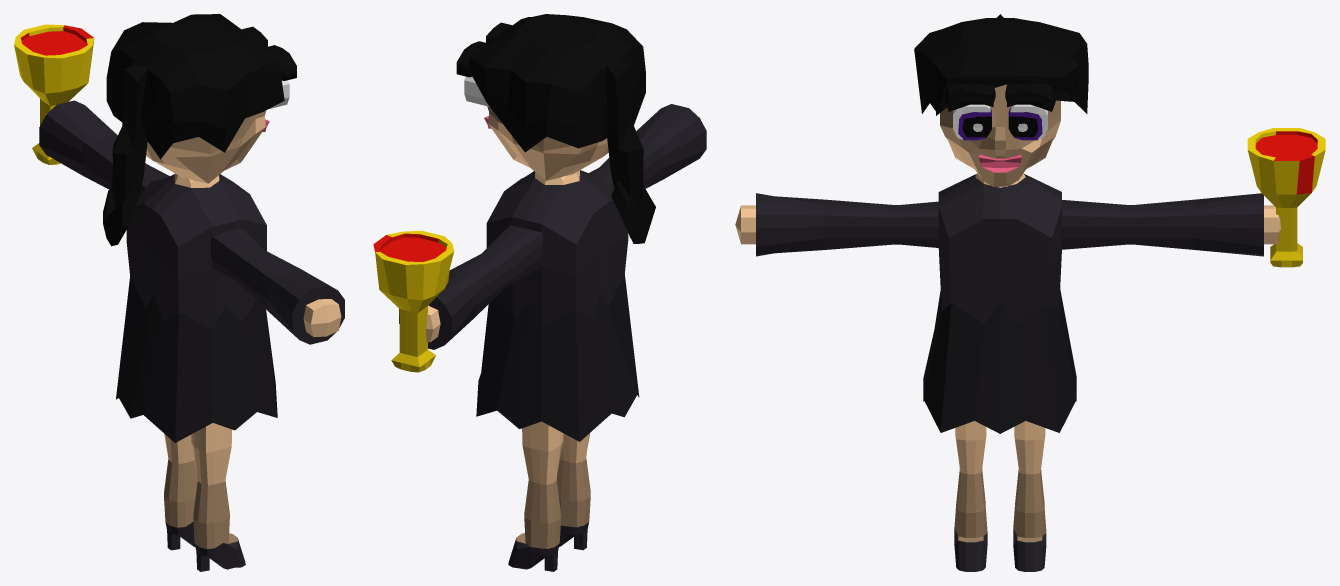
Rendered from dell_2.0.glb.
The picture shows the model from 3 angles, left to right: view 1: azimuth 30°, elevation 25°; view 2: azimuth 150°, elevation 25°; view 3: azimuth 270°, elevation 25°; orthographic projection.
Visible parts, largest first — view 1: torso, hair, arm_1, leg_1, arm_2, goblet, head, leg_2, wine, eyebrows; view 2: torso, hair, arm_2, goblet, leg_2, arm_1, leg_1, head, wine, eyebrows, eyes; view 3: torso, hair, arm_2, arm_1, goblet, head, leg_1, leg_2, eyes, eyebrows, wine.
Part boxes in pixels (<box>): torso: <box>116,173,277,442</box>; hair: <box>103,14,284,246</box>; arm_1: <box>211,228,344,344</box>; leg_1: <box>191,423,245,571</box>; arm_2: <box>39,100,169,193</box>; goblet: <box>14,24,94,164</box>; head: <box>146,110,266,183</box>; leg_2: <box>164,433,197,550</box>; wine: <box>21,31,86,55</box>; eyebrows: <box>242,26,296,80</box>; torso: <box>476,170,639,441</box>; hair: <box>469,14,655,243</box>; arm_2: <box>399,225,543,349</box>; goblet: <box>373,230,454,372</box>; leg_2: <box>508,421,563,571</box>; arm_1: <box>589,104,706,189</box>; leg_1: <box>556,433,590,550</box>; head: <box>487,106,608,180</box>; wine: <box>381,237,446,262</box>; eyebrows: <box>456,22,512,77</box>; eyes: <box>464,76,489,106</box>; torso: <box>923,173,1076,433</box>; hair: <box>914,14,1088,115</box>; arm_2: <box>1061,193,1280,256</box>; arm_1: <box>735,193,939,256</box>; goblet: <box>1247,128,1325,267</box>; head: <box>940,84,1060,186</box>; leg_1: <box>954,421,987,571</box>; leg_2: <box>1013,421,1046,571</box>; eyes: <box>953,104,1047,140</box>; eyebrows: <box>945,82,1055,111</box>; wine: <box>1255,135,1317,157</box>.
Bounding box in the file's own units: 3.97 × 11.76 × 12.04.
